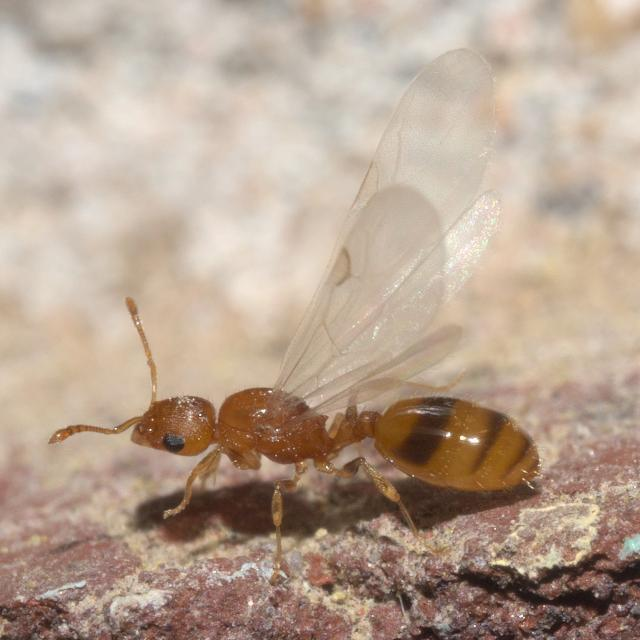Temnothorax: (64, 294, 568, 556)
